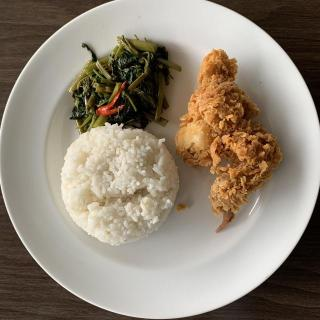Nasi: (63, 125, 183, 243)
